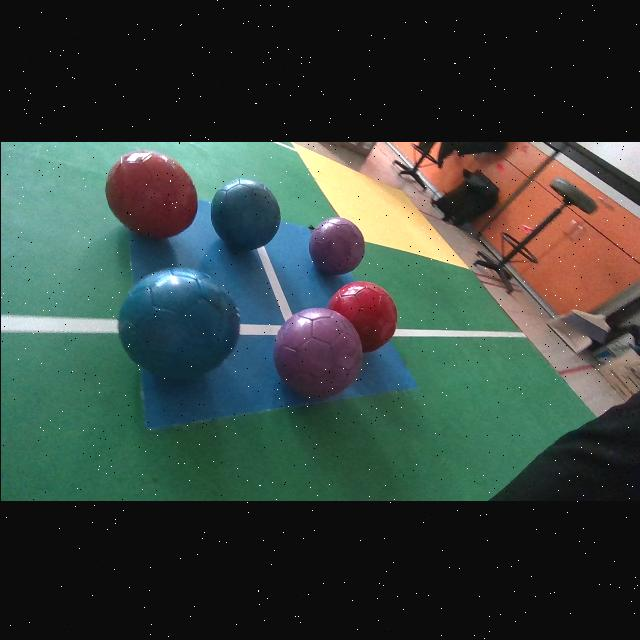B: (119, 265, 239, 377), (211, 177, 279, 247)
P: (273, 306, 361, 396), (307, 215, 364, 272)
R: (105, 148, 196, 236), (327, 279, 397, 350)
